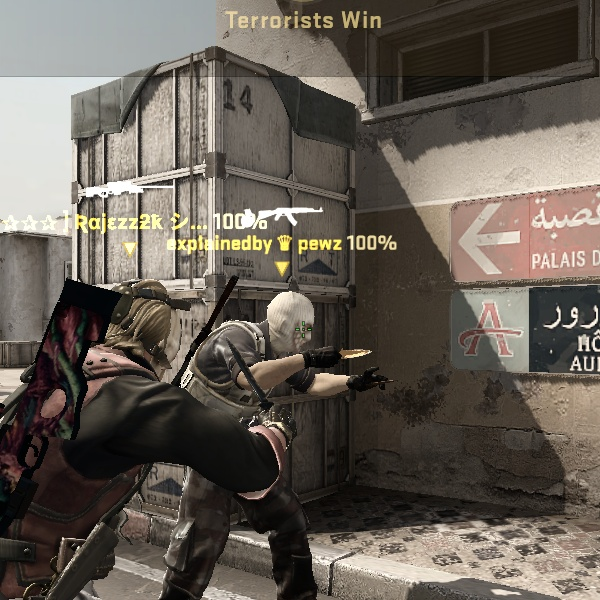t_body: (5, 270, 210, 571), (180, 286, 349, 600)
t_head: (72, 262, 205, 383), (254, 282, 341, 371)
